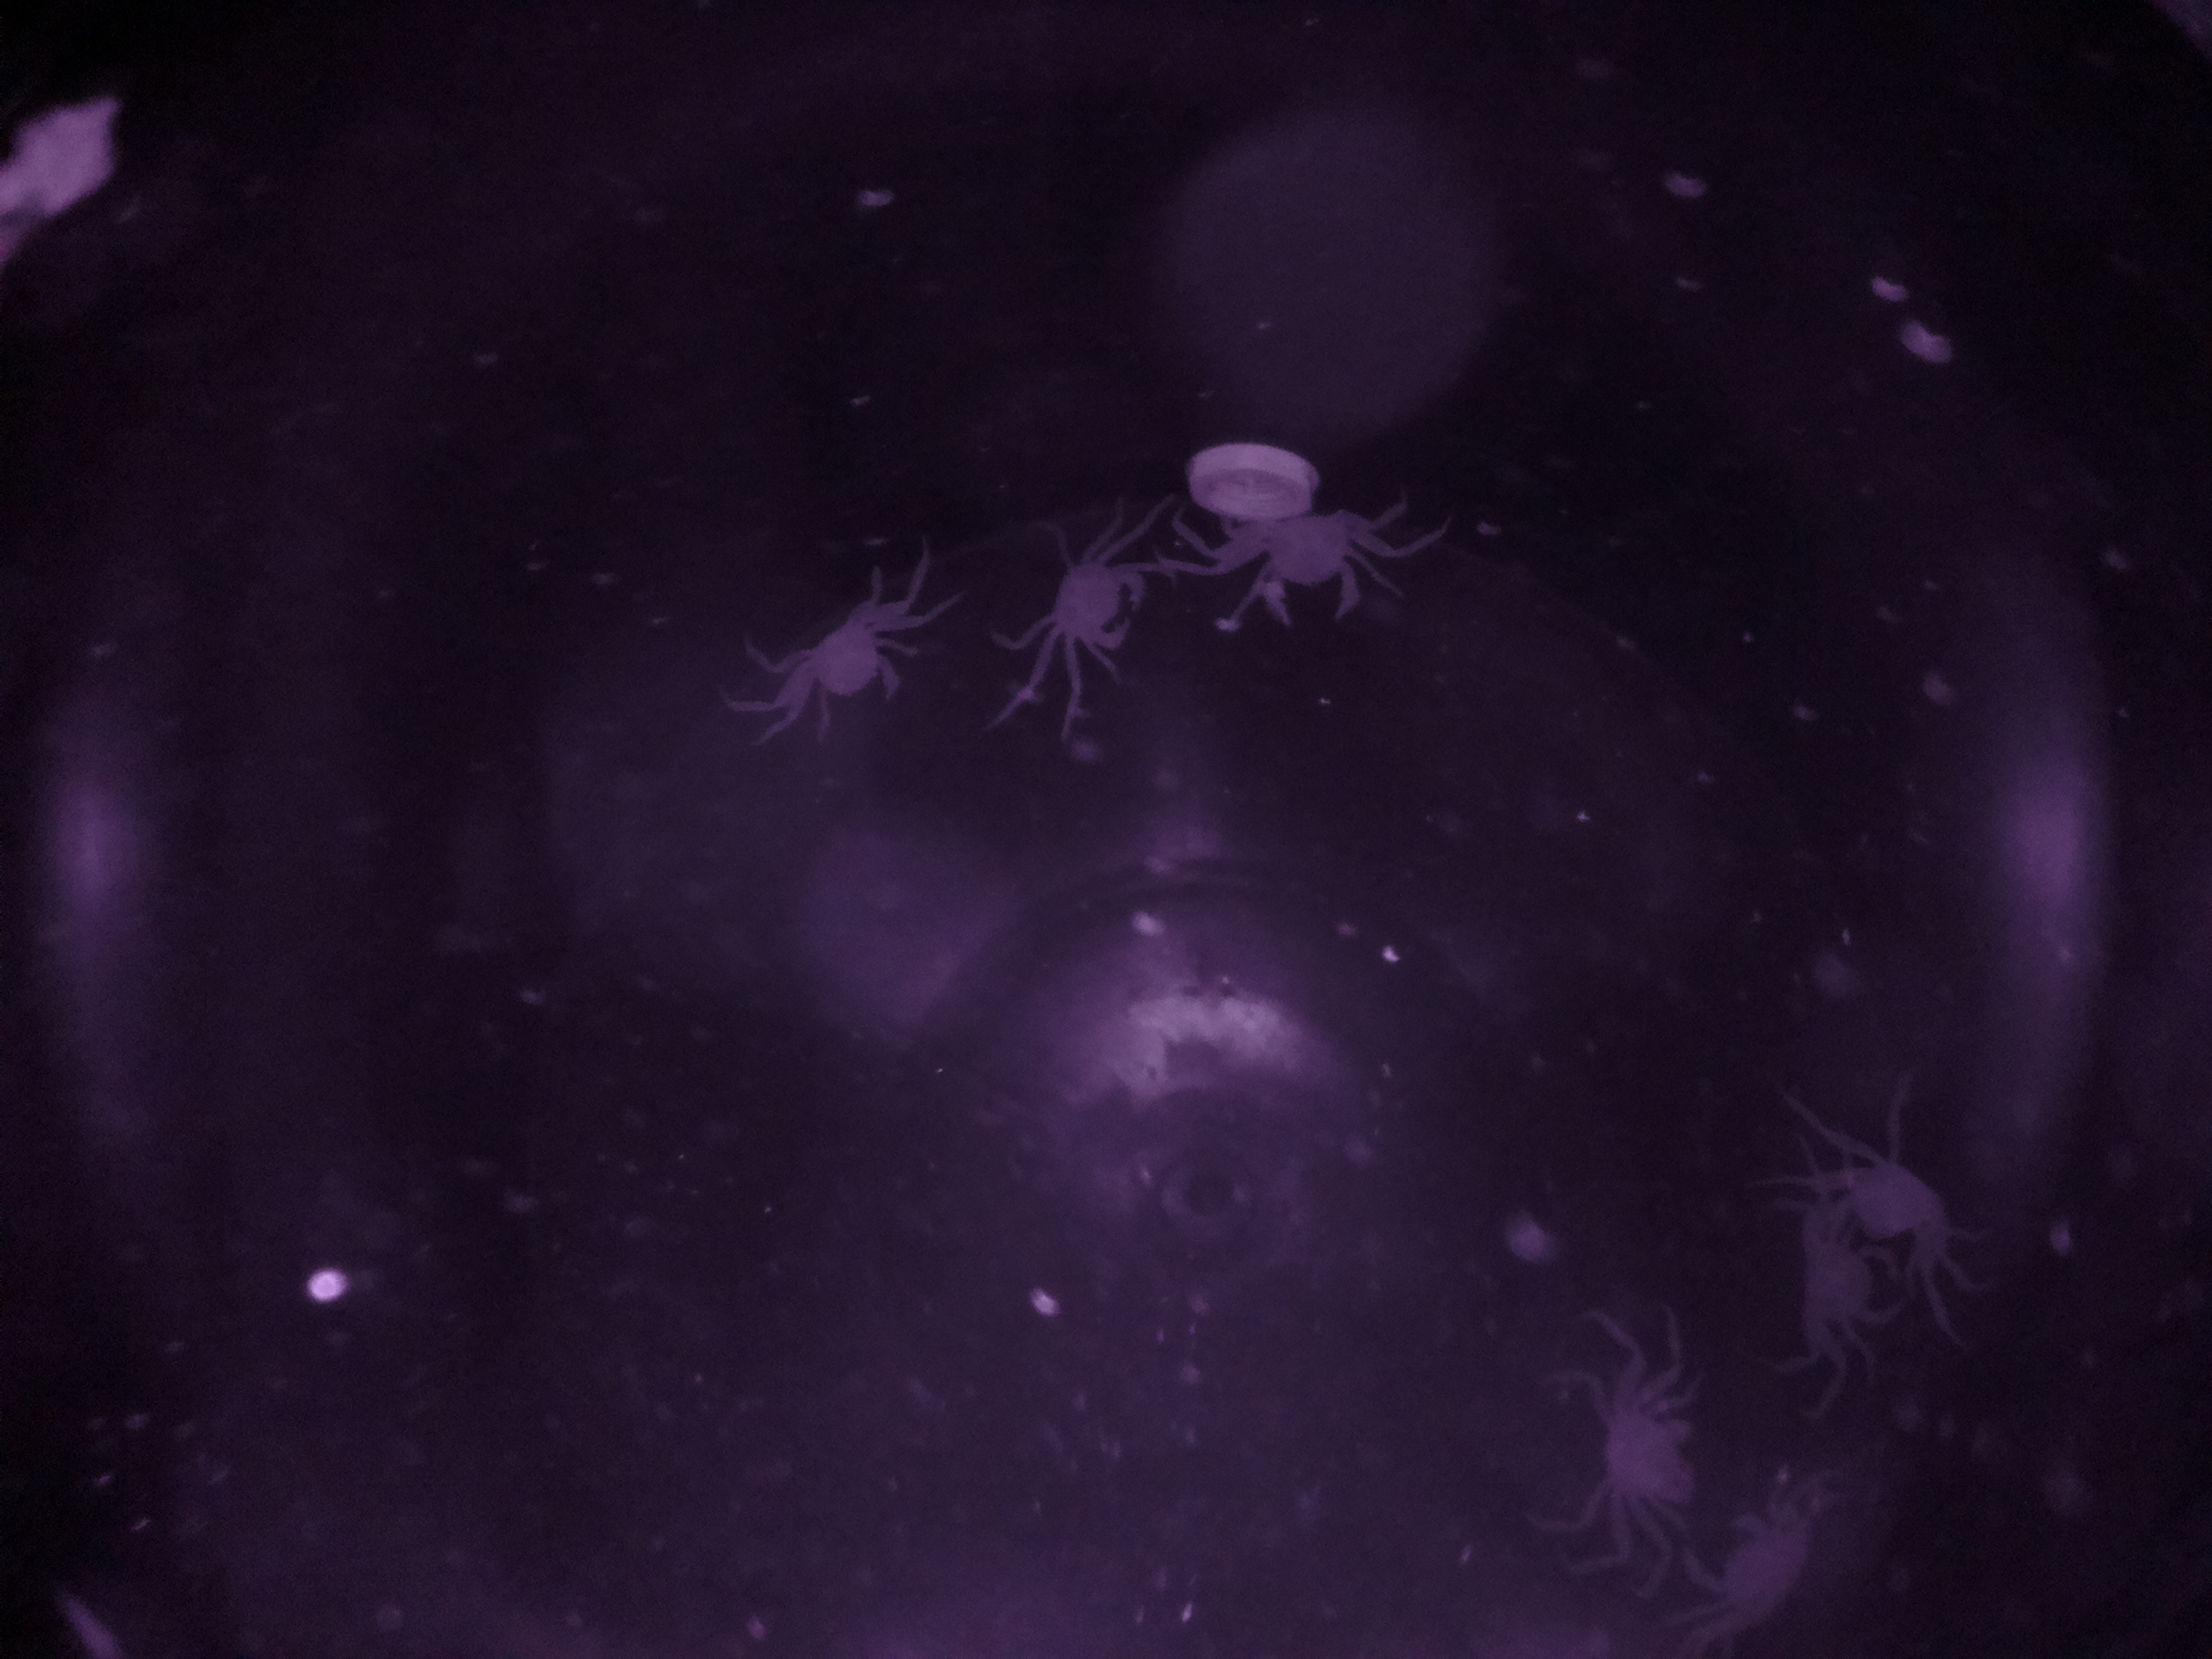Crab: (1573, 1373, 1707, 1551), (1226, 486, 1364, 638), (784, 577, 914, 734), (1028, 521, 1162, 666)
